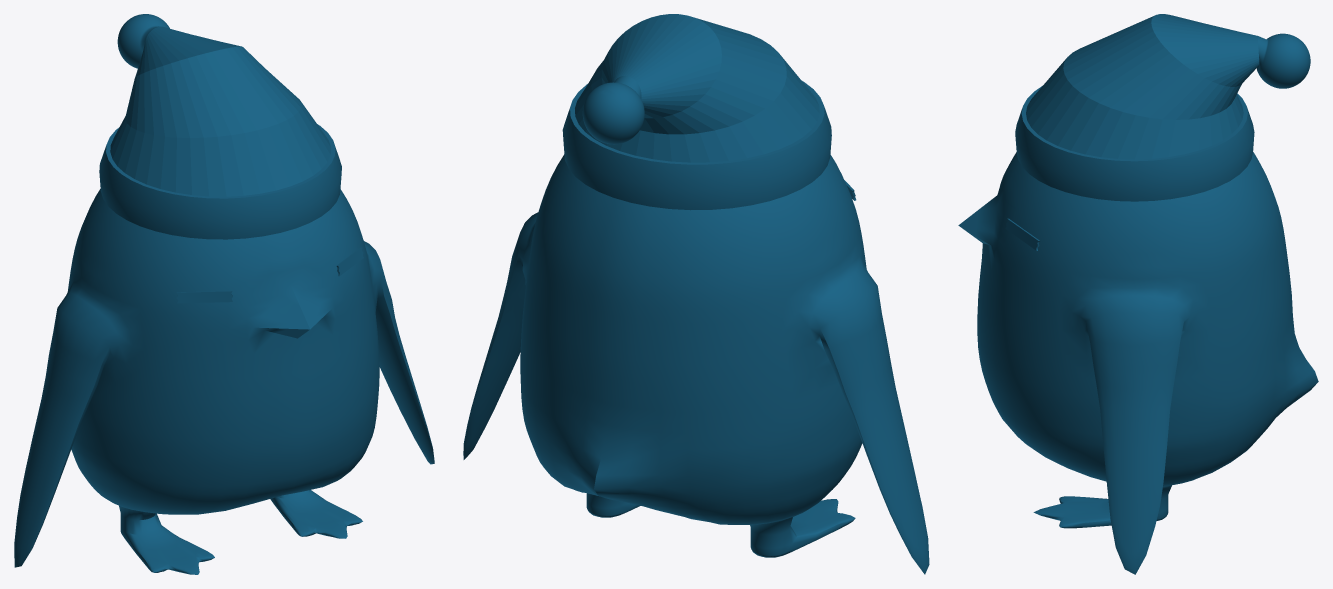
File: penguin_blue_idle_47f.fbx
3 renders of one model, left to right at view 1: azimuth 30°, elevation 25°; view 2: azimuth 150°, elevation 25°; view 3: azimuth 270°, elevation 25°, orthographic. The views are drawn at different scales.
Parts seen in each view (by area): view 1: ppp_47, bousi, ai; view 2: ppp_47, bousi; view 3: ppp_47, bousi.
Part boxes in pixels (left/top/right/bottom): ppp_47: left=14, top=189, right=434, bottom=574; bousi: left=99, top=14, right=341, bottom=239; ai: left=176, top=247, right=363, bottom=303; ppp_47: left=463, top=154, right=929, bottom=574; bousi: left=562, top=14, right=831, bottom=210; ppp_47: left=958, top=152, right=1318, bottom=574; bousi: left=1015, top=14, right=1310, bottom=201.
Size of the model in its own units: 18.85 by 20.11 by 14.35.
1 material, 1 textured.
